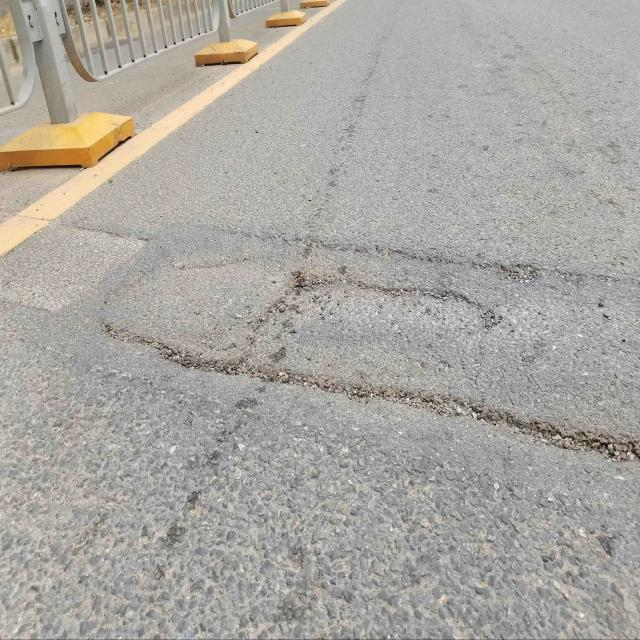Pothole: (109, 329, 640, 483), (267, 266, 493, 350)
